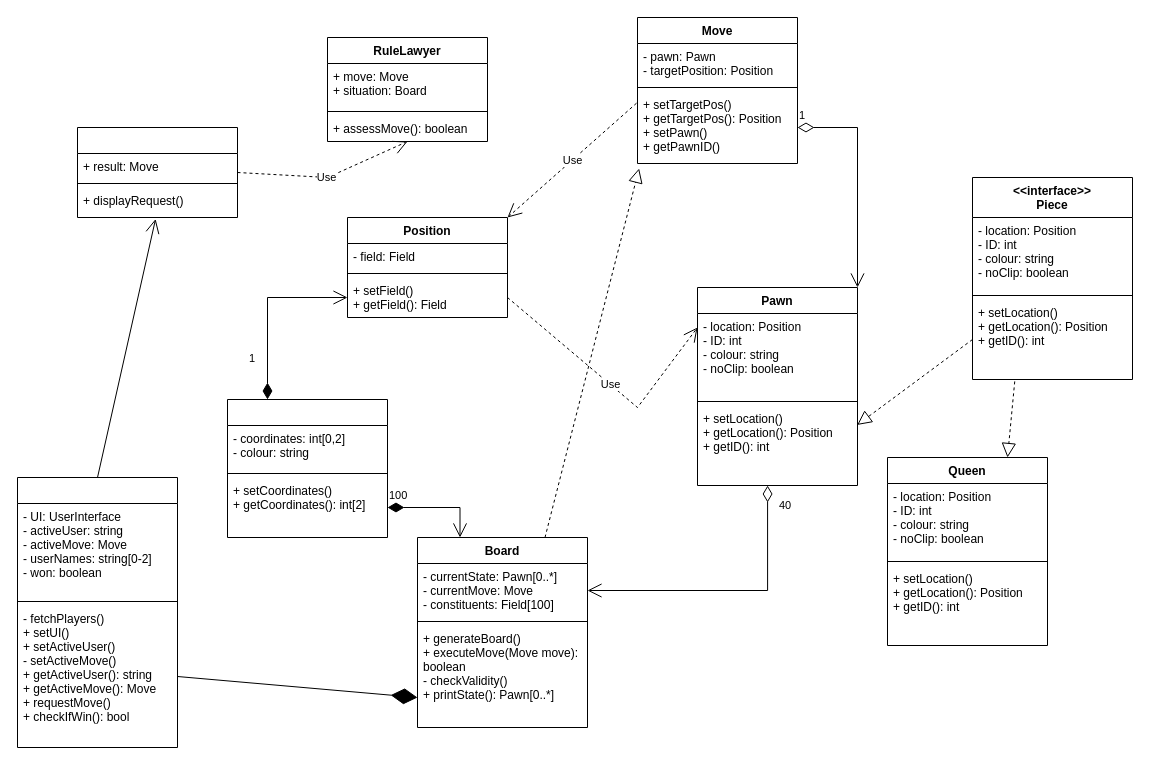
Some shapes in this 1150 by 768 pixel diagram are drawn without their labels. The shapes that lost their labels are listed below. From the top down, each one's box as (x1, y1, x2, y2) in pixels, then its label:
(76, 126, 238, 218): UserInterface
(226, 398, 388, 538): Field
(16, 476, 178, 748): CheckersGame
